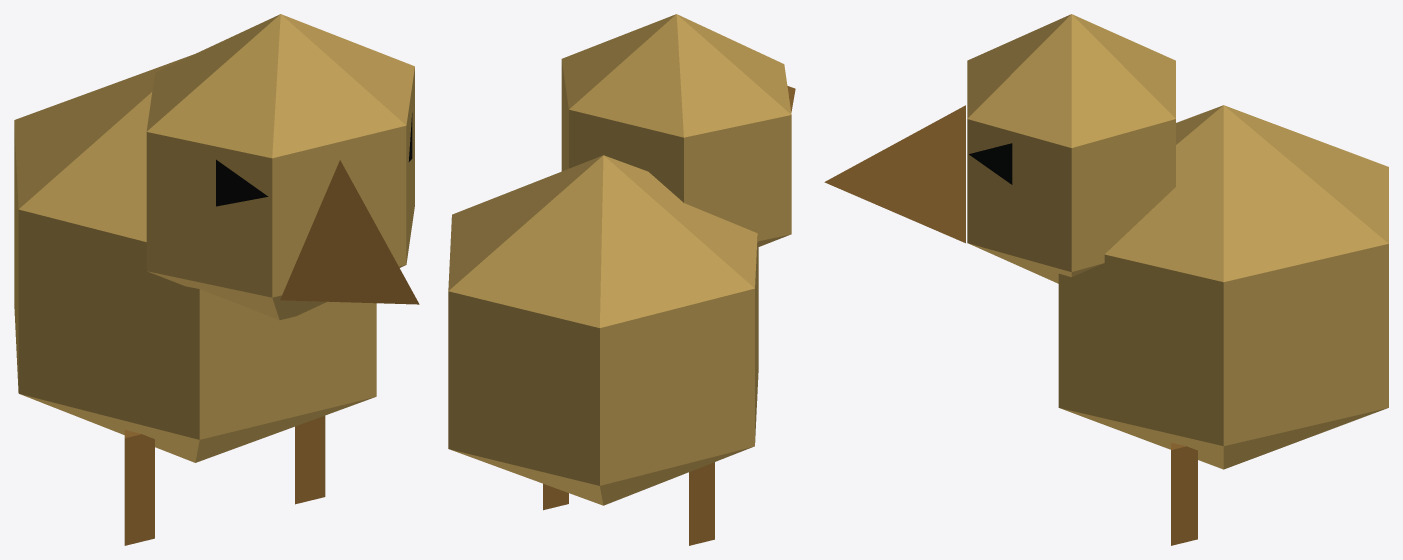
The model's file is chick.glb.
3 renders of one model, left to right at view 1: azimuth 30°, elevation 25°; view 2: azimuth 150°, elevation 25°; view 3: azimuth 270°, elevation 25°, orthographic. The views are drawn at different scales.
Visible parts, largest first — view 1: chick_body; view 2: chick_body; view 3: chick_body.
Boxes of the visible parts, <box> form: chick_body: <box>14,14,419,545</box>; chick_body: <box>448,14,795,545</box>; chick_body: <box>824,14,1388,545</box>.
Size of the model in its own units: 0.047 by 0.0697 by 0.073.
